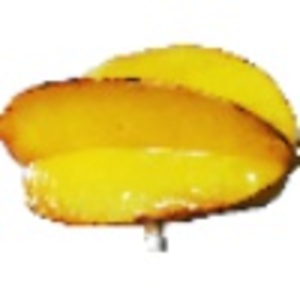carambola: (1, 40, 300, 247)
